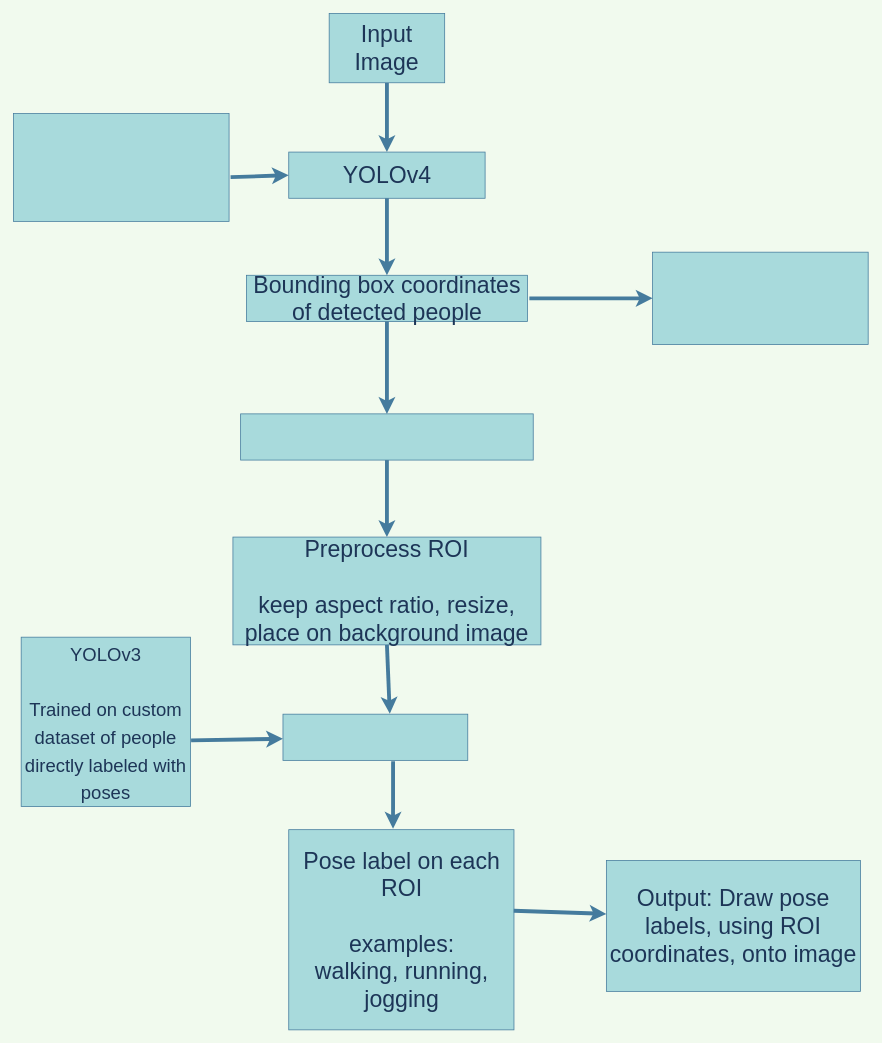
The diagram is 882 pixels wide and 1043 high, and some of its shapes have lost their labels. The shapes that lost their labels are listed below. From the top down, each one's centre as x and y in pixels, then its label:
At [121,167]: "Pre-trained. Draw boxes on people only.".
At [760,298]: "Output: Draw boxes with labels onto image".
At [386,436]: "Box images (ROI) of each person".
At [375,736]: "Pose detector".
